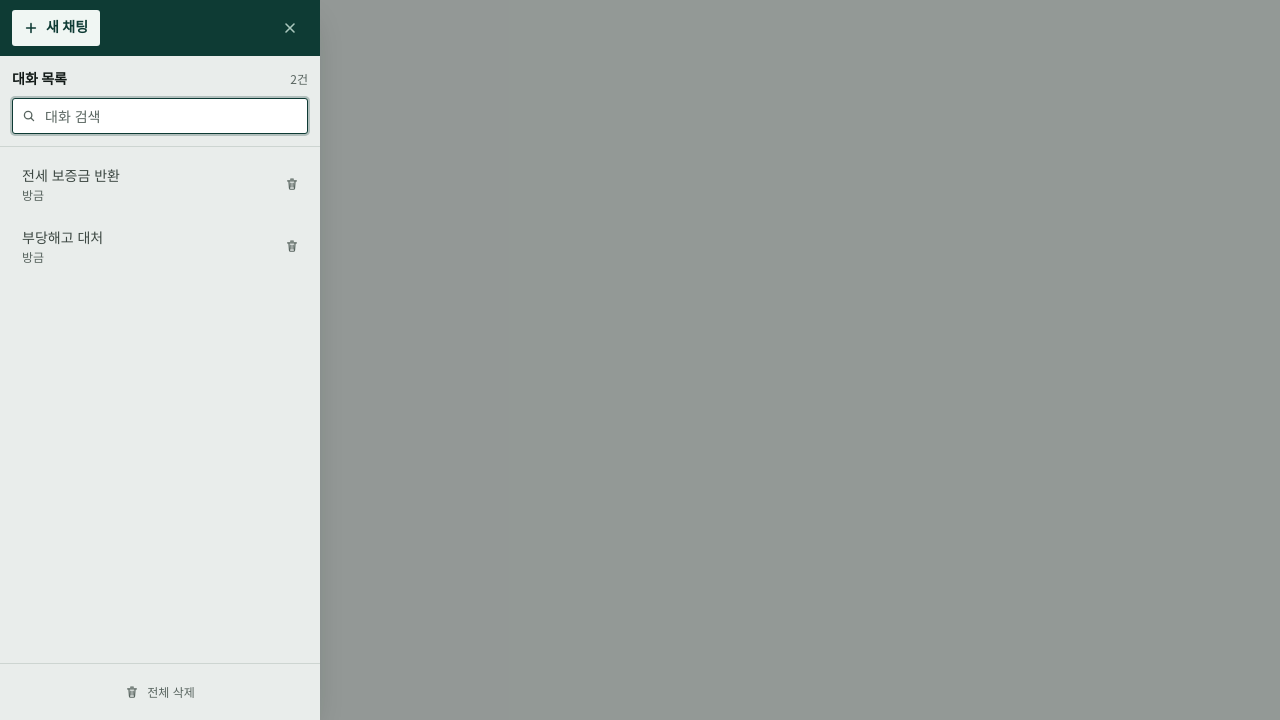
Test case: Sidebar › 검색 결과가 없으면 안내 문구를 보여준다
The width and height of the screenshot is (1280, 720).
Step 1. Type "상속" into the search field labelled "대화 검색" → coordinates (160, 116), box [12,98,308,134]
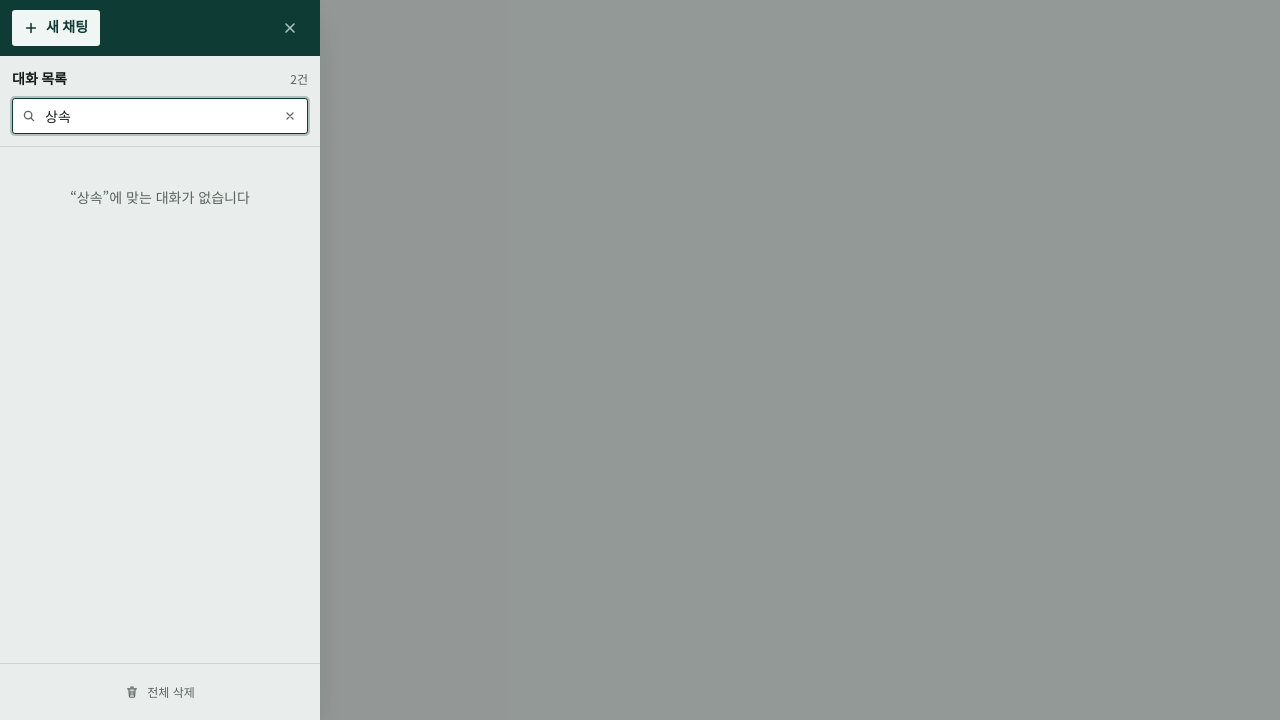
Now the message shows "맞는 대화가 없습니다", box [103,187,250,207]
